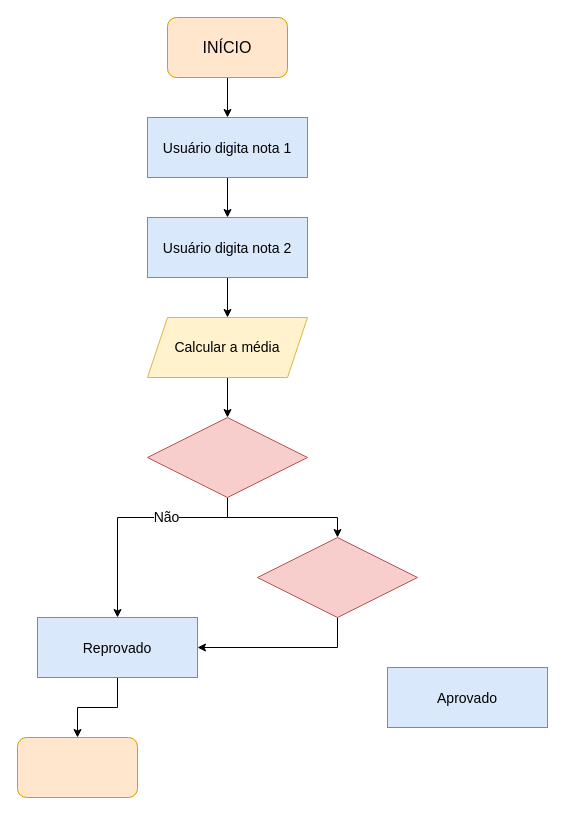
Some shapes in this 565 by 815 pixel diagram are drawn without their labels. Here are the shapes that lost their labels. From the top down, the centre of each, then its label:
At (x=227, y=457): "Média > 6?".
At (x=337, y=577): "Faltas > 6?".
At (x=77, y=767): "FIM".
